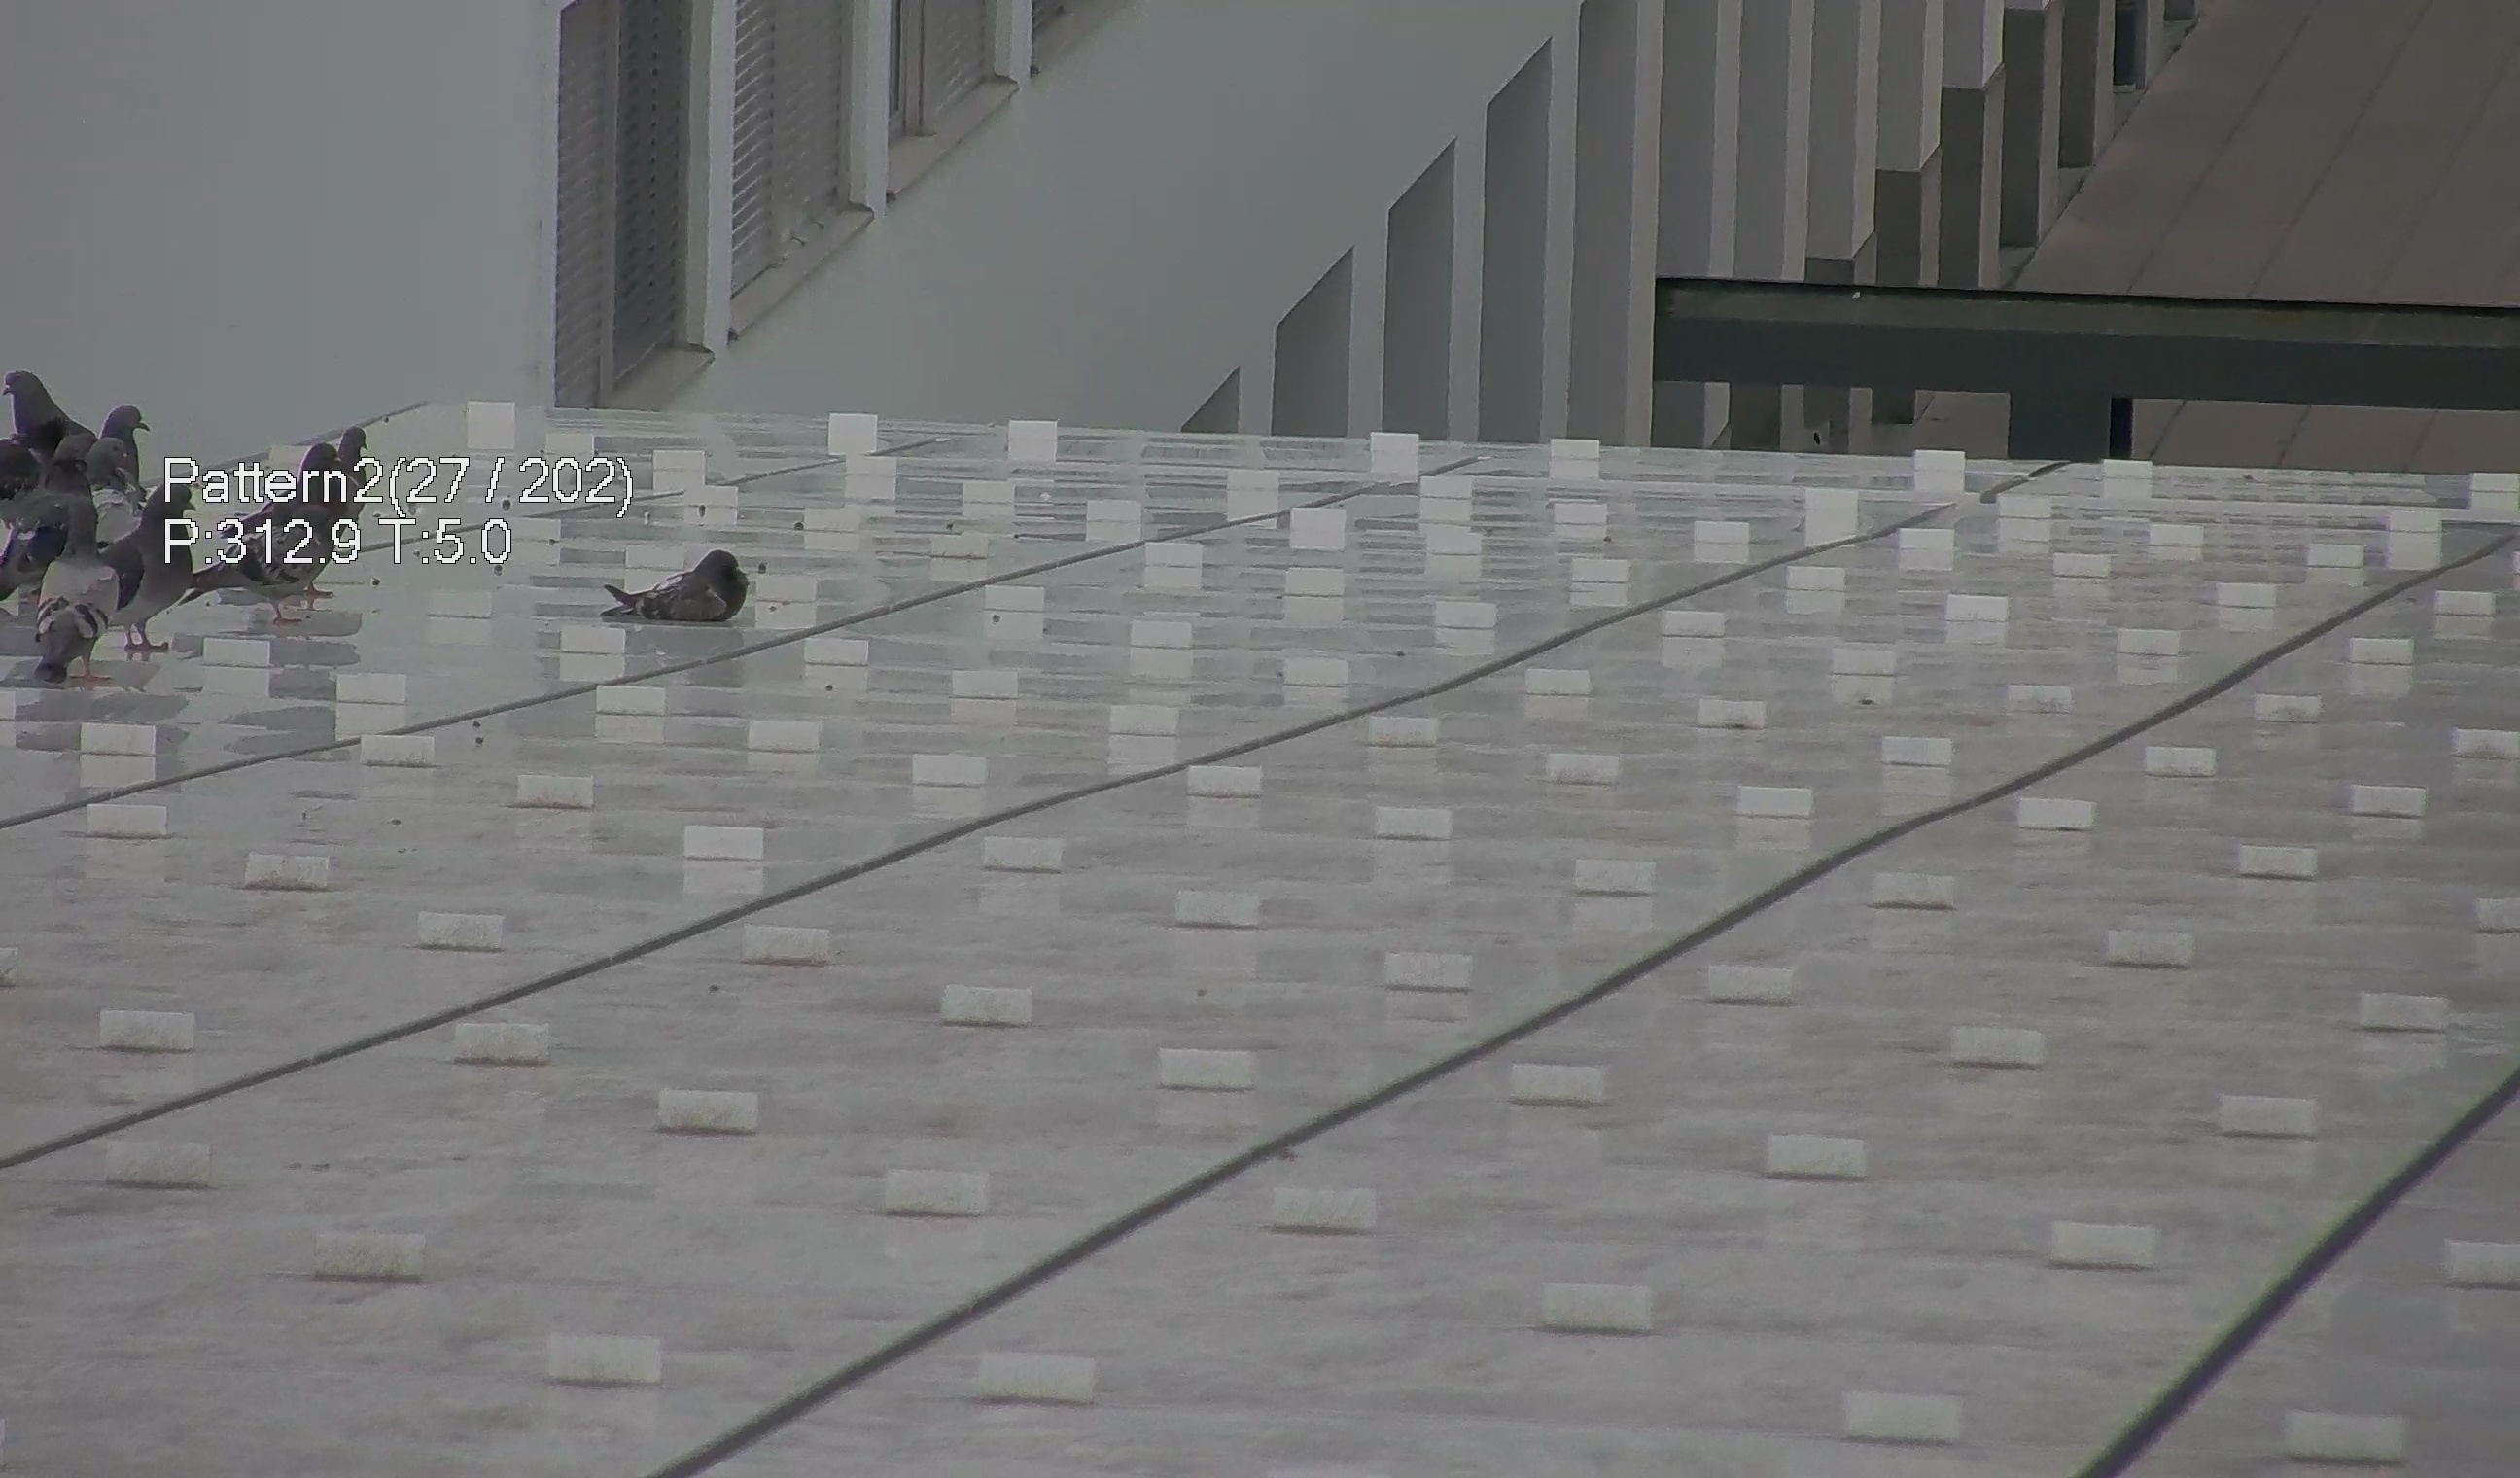Pigeon: (188, 436, 341, 612), (21, 496, 127, 695), (580, 538, 763, 628), (109, 487, 192, 635), (2, 366, 90, 450), (95, 375, 157, 486)
